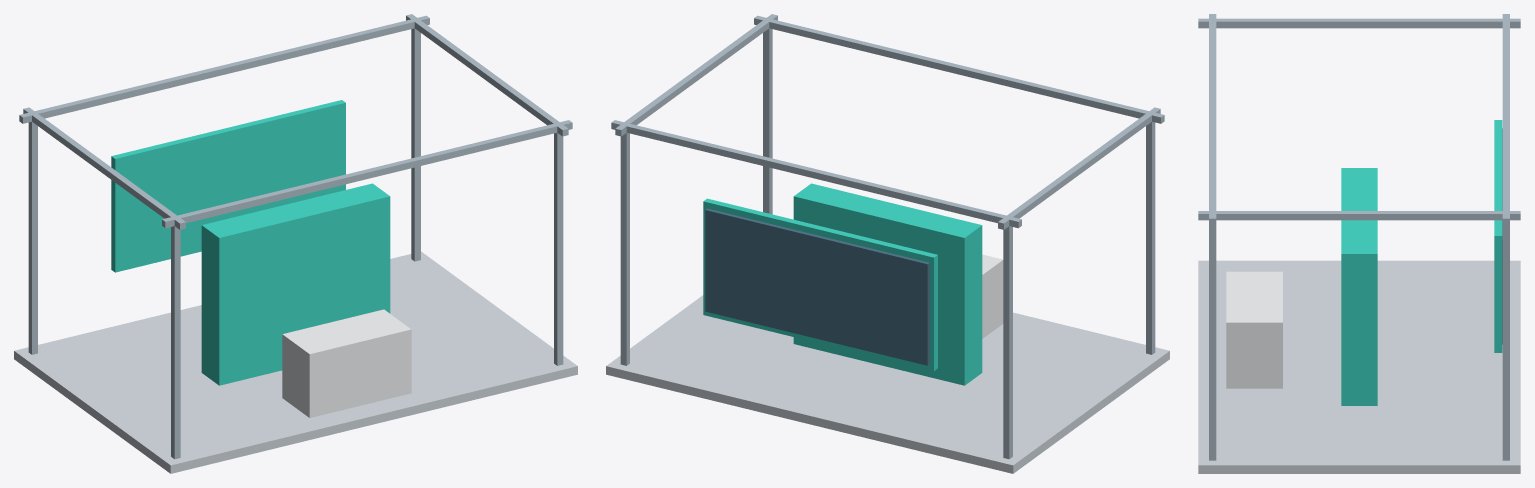
The picture shows the model from 3 angles, left to right: view 1: azimuth 30°, elevation 25°; view 2: azimuth 150°, elevation 25°; view 3: azimuth 270°, elevation 25°; orthographic projection. The views are drawn at different scales.
Visible parts, largest first — view 1: Exhibition Booth Concept; view 2: Exhibition Booth Concept; view 3: Exhibition Booth Concept.
Part boxes in pixels (box(x1,y1,x2,y2)): Exhibition Booth Concept: box(14, 14, 577, 473); Exhibition Booth Concept: box(606, 14, 1169, 473); Exhibition Booth Concept: box(1198, 14, 1520, 473).
Size of the model in its own units: 6 by 3.49 by 4.
